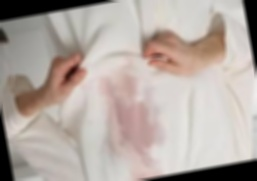wine: (93, 60, 160, 164), (131, 157, 163, 180)
